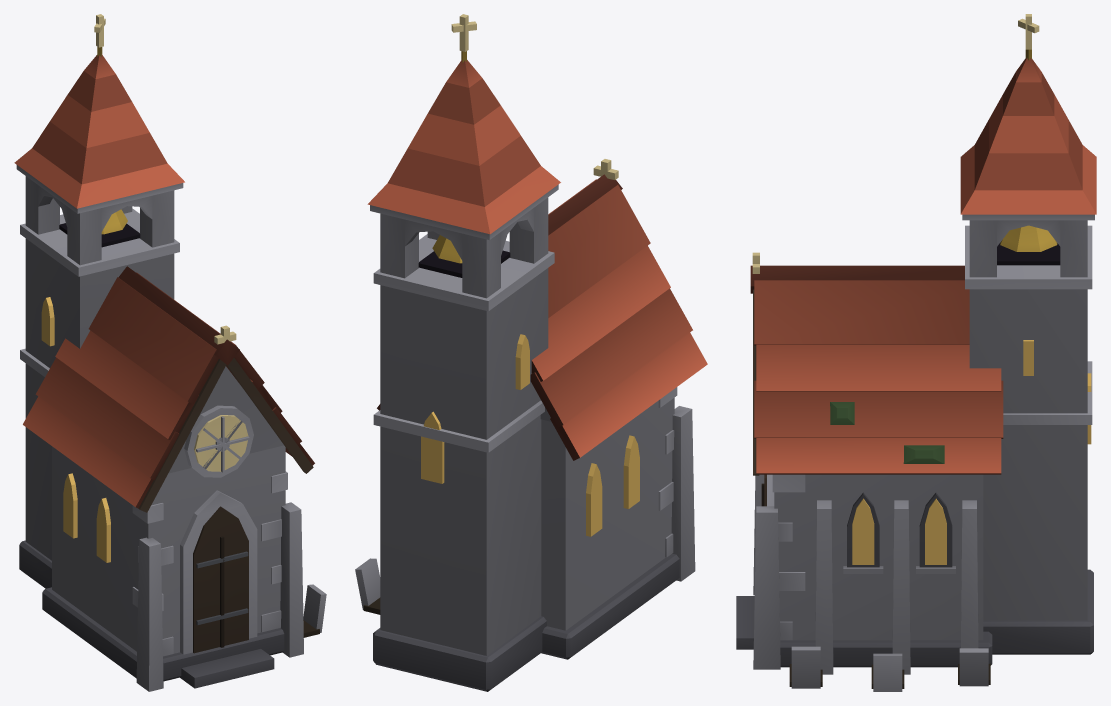
Rendered from church.glb.
3 renders of one model, left to right at view 1: azimuth 30°, elevation 25°; view 2: azimuth 150°, elevation 25°; view 3: azimuth 270°, elevation 25°, orthographic. The views are drawn at different scales.
Parts seen in each view (by area): view 1: church; view 2: church; view 3: church.
Part boxes in pixels (box(x1,y1,x2,y2)): church: box(14, 14, 326, 691); church: box(355, 14, 707, 691); church: box(736, 14, 1096, 691).
Size of the model in its own units: 2.9 by 7.45 by 3.97.
